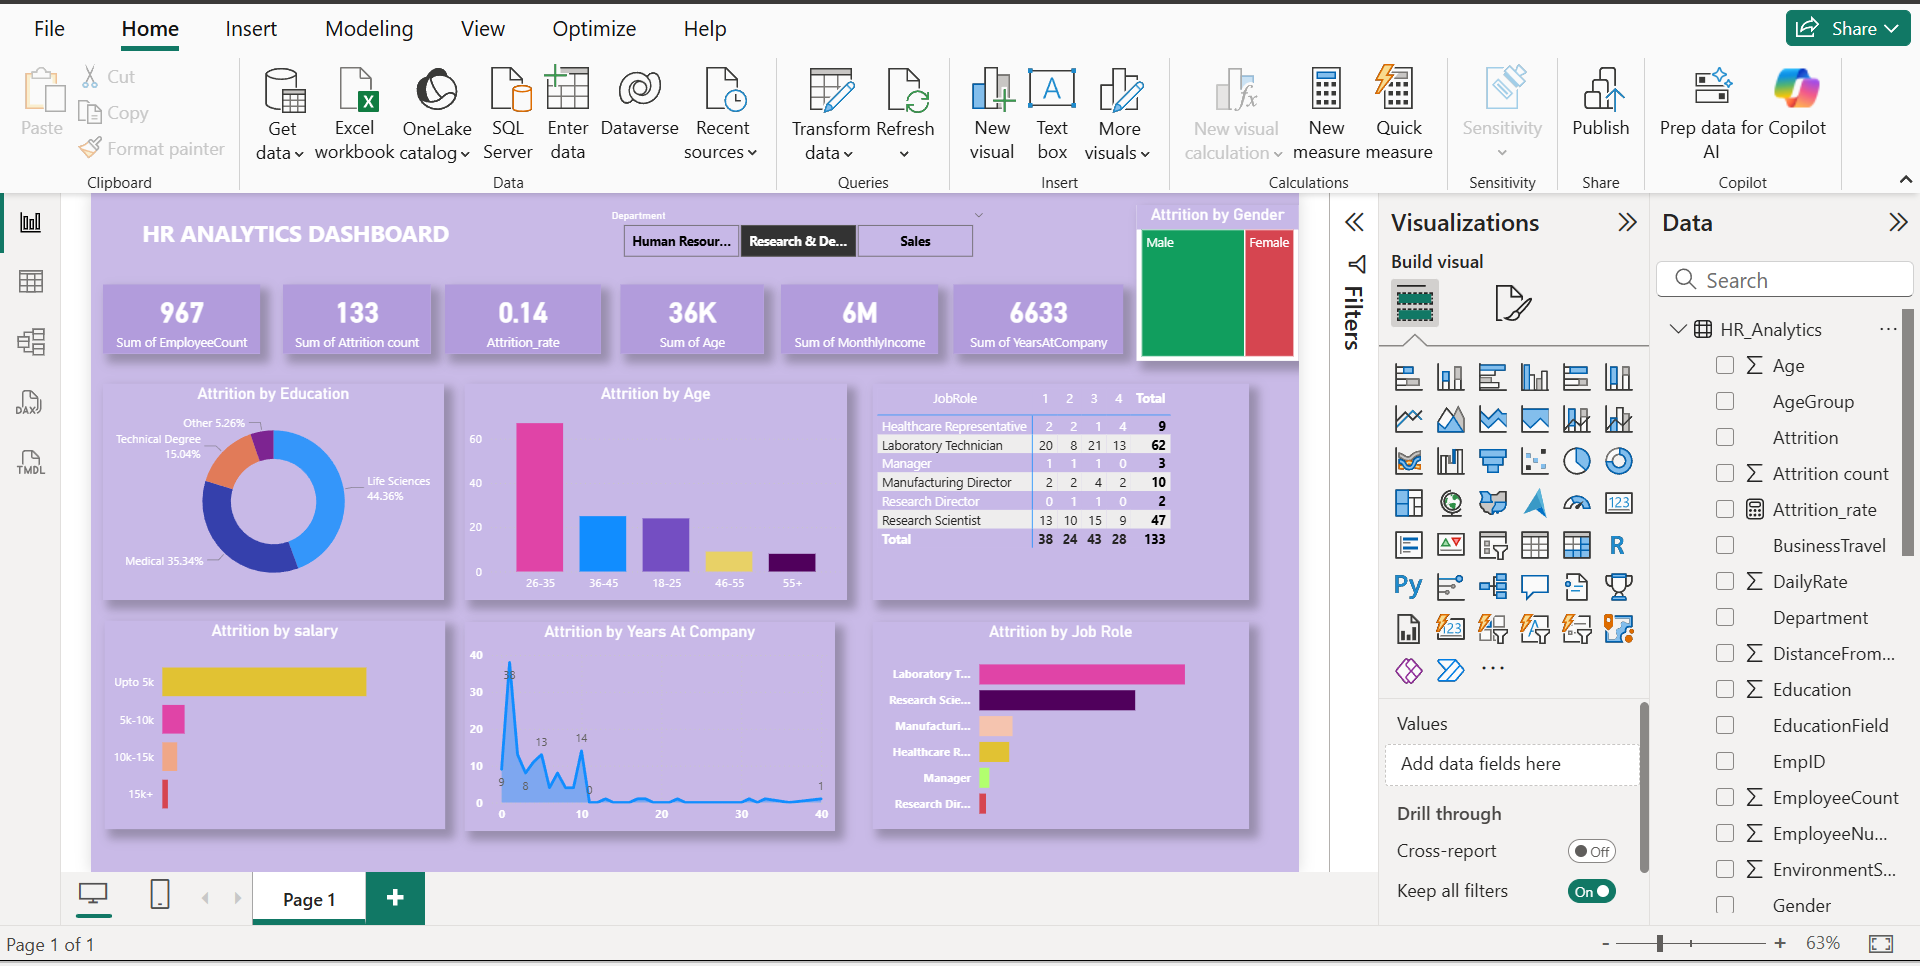

The page's visual inventory and layout, read from the dashboard file:
{"tool":"powerbi","page":{"name":"Page 1","canvas":[1280,720],"ordinal":0},"visuals":[{"type":"card","fields":{"Values":["Sum(HR_Analytics.EmployeeCount)"]},"box":[13.3,96.7,166.7,73.3],"z":0},{"type":"textbox","box":[49.3,20.7,346.8,54.1],"z":1000},{"type":"card","fields":{"Values":["Sum(HR_Analytics.Attrition count)"]},"box":[203.3,96.7,156.7,73.3],"z":2000},{"type":"card","fields":{"Values":["HR_Analytics.Attrition_rate"]},"box":[375,96.7,165,73.3],"z":3000},{"type":"card","fields":{"Values":["Sum(HR_Analytics.Age)"]},"box":[561.7,96.7,151.7,73.3],"z":4000},{"type":"card","fields":{"Values":["Sum(HR_Analytics.MonthlyIncome)"]},"box":[731.7,96.7,166.7,73.3],"z":5000},{"type":"card","fields":{"Values":["Sum(HR_Analytics.YearsAtCompany)"]},"box":[915,96.7,180,73.3],"z":6000},{"type":"slicer","fields":{"Values":["HR_Analytics.Department"]},"box":[540,13.3,420,61.7],"z":7000},{"type":"treemap","title":"Attrition by Gender","fields":{"Group":["HR_Analytics.Gender"],"Values":["Sum(HR_Analytics.Attrition count)"]},"box":[1108.7,12.7,171.8,165.4],"z":8000},{"type":"donutChart","title":"Attrition by Education","fields":{"Category":["HR_Analytics.EducationField"],"Y":["Sum(HR_Analytics.Attrition count)"]},"box":[12.7,202,361.1,229],"z":9000},{"type":"columnChart","title":"Attrition by Age","fields":{"Category":["HR_Analytics.AgeGroup"],"Y":["Sum(HR_Analytics.Attrition count)"]},"box":[396.1,202,405.6,229],"z":10000},{"type":"pivotTable","fields":{"Values":["Sum(HR_Analytics.Attrition count)"],"Columns":["HR_Analytics.JobSatisfaction"],"Rows":["HR_Analytics.JobRole"]},"box":[828.7,202,399.2,229],"z":11000},{"type":"barChart","title":"Attrition by salary","fields":{"Category":["HR_Analytics.SalarySlab"],"Y":["Sum(HR_Analytics.Attrition count)"]},"box":[14.3,453.3,361.1,221.1],"z":11001},{"type":"areaChart","title":"Attrition by Years At Company","fields":{"Category":["HR_Analytics.YearsAtCompany"],"Y":["Sum(HR_Analytics.Attrition count)"]},"box":[396.1,454.9,392.9,221.1],"z":11002},{"type":"barChart","title":"Attrition by Job Role","fields":{"Category":["HR_Analytics.JobRole"],"Y":["Sum(HR_Analytics.Attrition count)"]},"box":[828.7,454.9,399.2,219.5],"z":11003}]}

Visuals, with their boxes on the page's 1280x720 design canvas (x1, y1, x2, y2). These are canvas units, not pixel positions in the 1920x966 screenshot, which may show the page scaled, cropped or inside an application window:
card - Sum(HR_Analytics.EmployeeCount): <bbox>13, 97, 180, 170</bbox>
textbox: <bbox>49, 21, 396, 75</bbox>
card - Sum(HR_Analytics.Attrition count): <bbox>203, 97, 360, 170</bbox>
card - HR_Analytics.Attrition_rate: <bbox>375, 97, 540, 170</bbox>
card - Sum(HR_Analytics.Age): <bbox>562, 97, 713, 170</bbox>
card - Sum(HR_Analytics.MonthlyIncome): <bbox>732, 97, 898, 170</bbox>
card - Sum(HR_Analytics.YearsAtCompany): <bbox>915, 97, 1095, 170</bbox>
slicer - HR_Analytics.Department: <bbox>540, 13, 960, 75</bbox>
"Attrition by Gender" treemap: <bbox>1109, 13, 1280, 178</bbox>
"Attrition by Education" donutChart: <bbox>13, 202, 374, 431</bbox>
"Attrition by Age" columnChart: <bbox>396, 202, 802, 431</bbox>
pivotTable - Sum(HR_Analytics.Attrition count) x HR_Analytics.JobSatisfaction: <bbox>829, 202, 1228, 431</bbox>
"Attrition by salary" barChart: <bbox>14, 453, 375, 674</bbox>
"Attrition by Years At Company" areaChart: <bbox>396, 455, 789, 676</bbox>
"Attrition by Job Role" barChart: <bbox>829, 455, 1228, 674</bbox>
